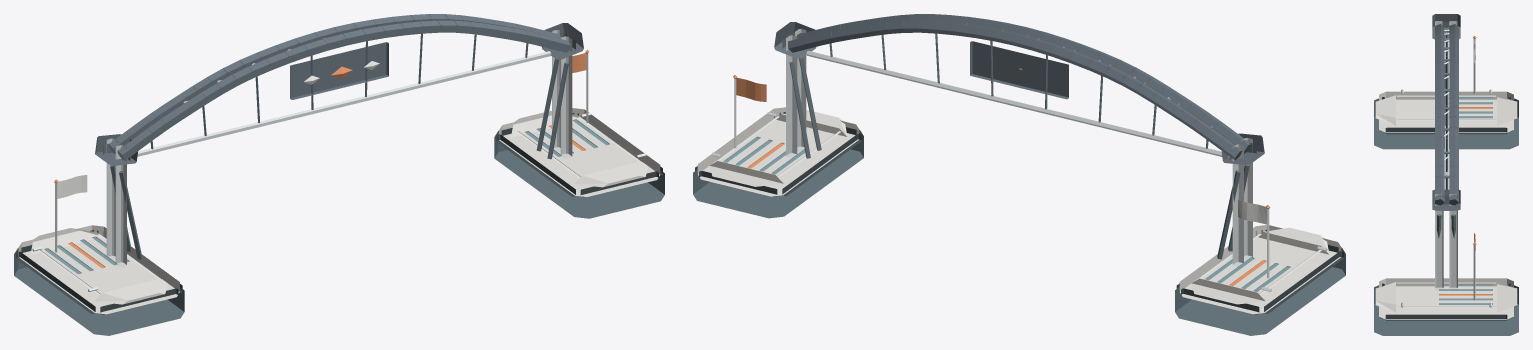
File: Starting_line_02.glb
The picture shows the model from 3 angles, left to right: view 1: azimuth 30°, elevation 25°; view 2: azimuth 150°, elevation 25°; view 3: azimuth 270°, elevation 25°; orthographic projection. The views are drawn at different scales.
Parts seen in each view (by area): view 1: Pylon_L_Deck, Pylon_R_Deck, Pylon_L_Hull, Pylon_R_Hull, Arch_CenterPanel, Arch_LowerRail, Pylon_R_Tower_+0.58, Pylon_L_Tower_+0.58, Pylon_L_Cap_B, Pylon_R_Cap_B, Pylon_L_Tower_-0.58, Pylon_L_Cap_F (+10 smaller); view 2: Pylon_L_Deck, Pylon_R_Deck, Pylon_L_Hull, Pylon_R_Hull, Arch_CenterPanel, Arch_LowerRail, Pylon_R_Tower_-0.58, Pylon_L_Tower_-0.58, Pylon_L_Cap_F, Pylon_R_Cap_F, Pylon_L_Cap_B, Pylon_R_RubberSide_-3.26 (+11 smaller); view 3: Pylon_R_Deck, Pylon_L_Deck, Pylon_R_Hull, Pylon_L_Hull, Pylon_R_RubberSide_+3.26, Pylon_L_RubberSide_+3.26, Pylon_R_Tower_+0.58, Pylon_R_Tower_-0.58, Pylon_R_Cap_B, Pylon_R_Cap_F, Pylon_L_Cap_B, Pylon_L_Cap_F (+11 smaller).
Boxes of the visible parts, x1,y1,x2,y2 form: Pylon_L_Deck: (18, 225, 179, 314); Pylon_R_Deck: (499, 108, 660, 196); Pylon_L_Hull: (14, 247, 184, 335); Pylon_R_Hull: (494, 130, 664, 218); Arch_CenterPanel: (290, 42, 388, 99); Arch_LowerRail: (137, 51, 551, 156); Pylon_R_Tower_+0.58: (560, 36, 572, 158); Pylon_L_Tower_+0.58: (115, 145, 126, 267); Pylon_L_Cap_B: (94, 279, 167, 304); Pylon_R_Cap_B: (575, 161, 648, 187); Pylon_L_Tower_-0.58: (106, 138, 118, 260); Pylon_L_Cap_F: (30, 228, 101, 254); Pylon_L_Deck: (1179, 225, 1341, 314); Pylon_R_Deck: (697, 107, 859, 196); Pylon_L_Hull: (1175, 247, 1345, 335); Pylon_R_Hull: (693, 130, 863, 218); Arch_CenterPanel: (970, 41, 1068, 99); Arch_LowerRail: (806, 51, 1229, 157); Pylon_R_Tower_-0.58: (786, 35, 797, 158); Pylon_L_Tower_-0.58: (1232, 144, 1243, 266); Pylon_L_Cap_F: (1191, 278, 1264, 304); Pylon_R_Cap_F: (709, 161, 783, 186); Pylon_L_Cap_B: (1258, 227, 1329, 254); Pylon_R_RubberSide_-3.26: (782, 133, 862, 196); Pylon_R_Deck: (1379, 278, 1513, 319); Pylon_L_Deck: (1379, 91, 1513, 132); Pylon_R_Hull: (1374, 285, 1518, 335); Pylon_L_Hull: (1374, 98, 1518, 149); Pylon_R_RubberSide_+3.26: (1385, 314, 1507, 320); Pylon_L_RubberSide_+3.26: (1385, 127, 1507, 134); Pylon_R_Tower_+0.58: (1435, 194, 1443, 290); Pylon_R_Tower_-0.58: (1449, 194, 1457, 289); Pylon_R_Cap_B: (1375, 282, 1395, 312); Pylon_R_Cap_F: (1497, 282, 1517, 312); Pylon_L_Cap_B: (1375, 95, 1395, 125); Pylon_L_Cap_F: (1497, 95, 1517, 125).
Size of the model in its own units: 42.86 by 14.62 by 11.8.
